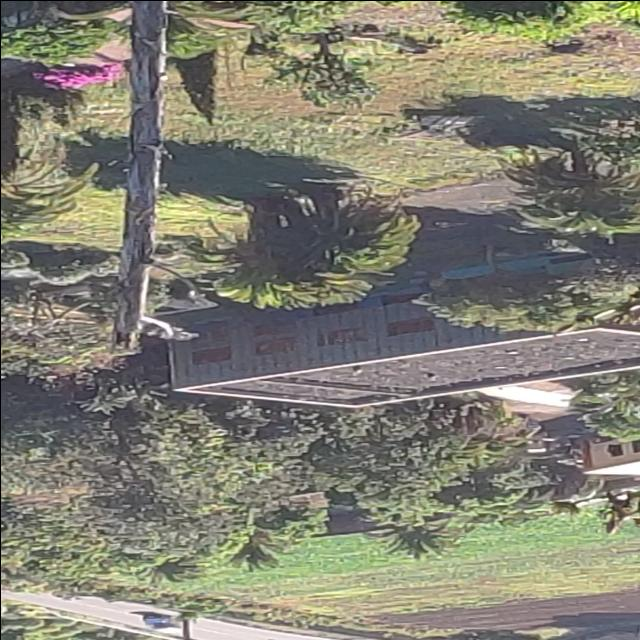Palm-Trees: (273, 189, 417, 275), (513, 146, 640, 233)
